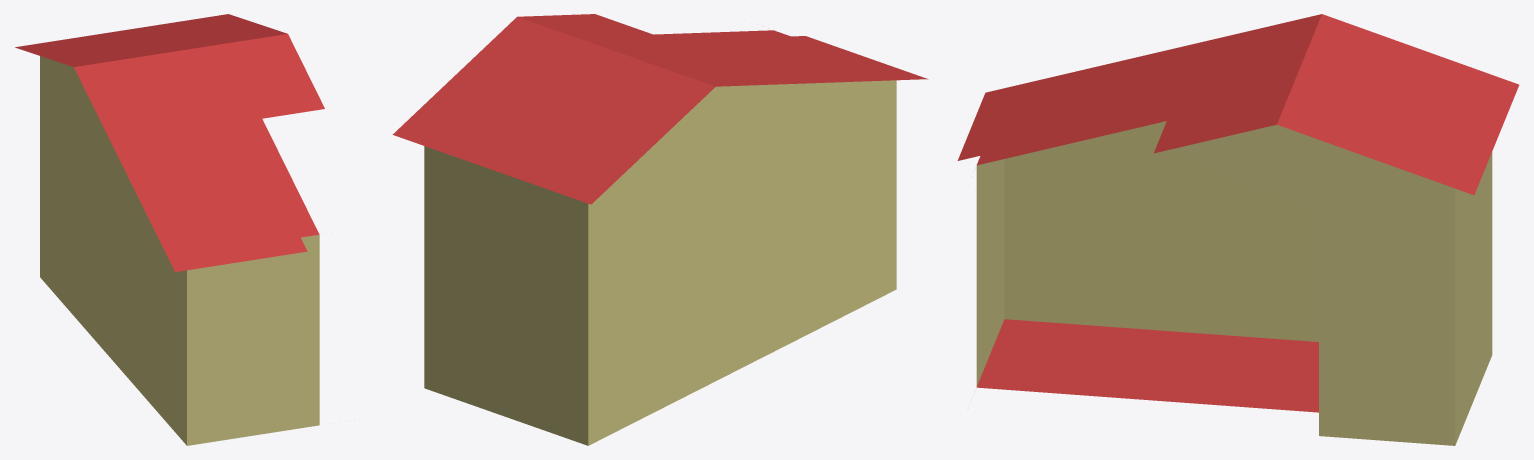
The picture shows the model from 3 angles, left to right: view 1: azimuth 30°, elevation 25°; view 2: azimuth 150°, elevation 25°; view 3: azimuth 270°, elevation 25°; orthographic projection. The views are drawn at different scales.
Bounding box in the file's own units: 11.35 × 18.01 × 11.26.
